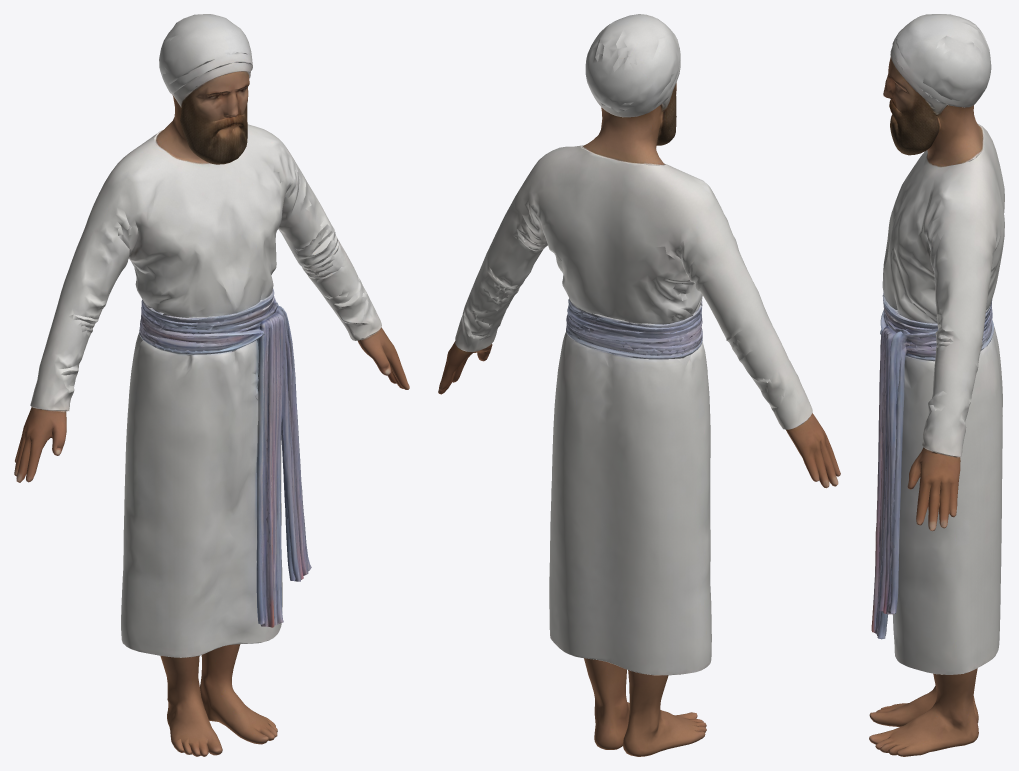
Rendered from cohen_5.glb.
The picture shows the model from 3 angles, left to right: view 1: azimuth 30°, elevation 25°; view 2: azimuth 150°, elevation 25°; view 3: azimuth 270°, elevation 25°; orthographic projection.
Visible parts, largest first — view 1: Mesh; view 2: Mesh; view 3: Mesh.
Part boxes in pixels (x1,y1,x2,y2): Mesh: [14, 14, 409, 756]; Mesh: [438, 14, 840, 756]; Mesh: [869, 14, 1004, 756].
Size of the model in its own units: 1.09 by 1.89 by 0.3254.
Materials: 1 (1 with a texture image).
